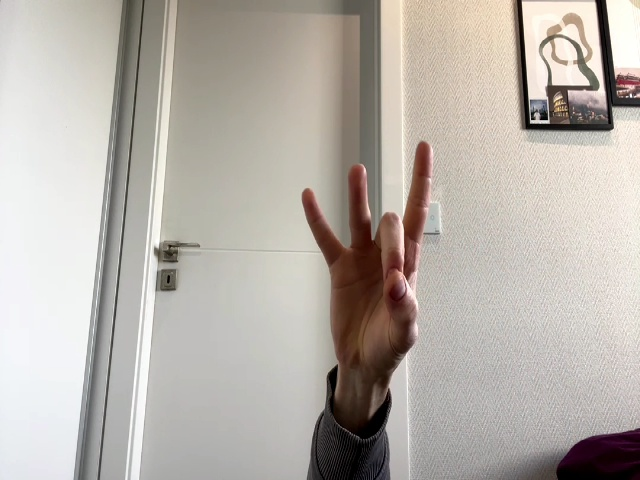G: (303, 142, 434, 366)
